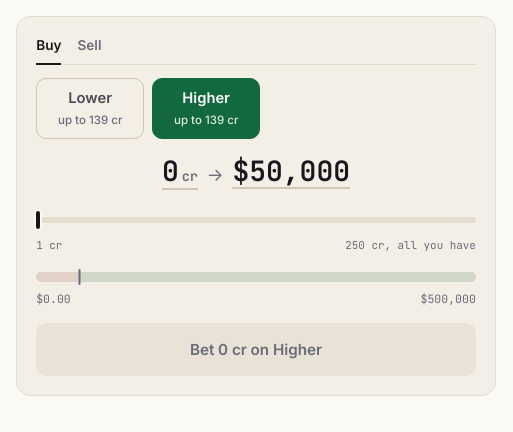
win facts › a lower bet is worth most at the bottom of the range
Step 1. Click the button "Lower up to 139 cr" → (90,109), box x1=36 y1=78 x2=144 y2=139
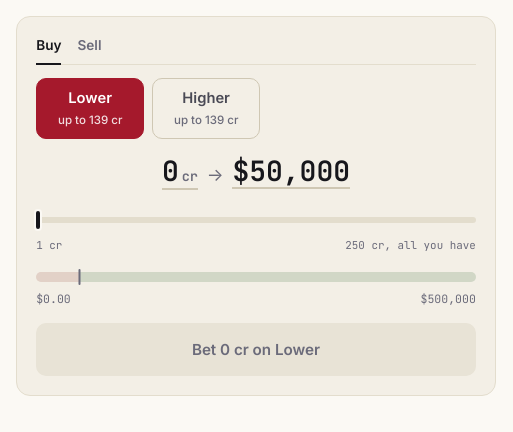
Step 2. Replace the text in the field named "Credits to spend" with "25" → (170,170), box x1=162 y1=152 x2=179 y2=188
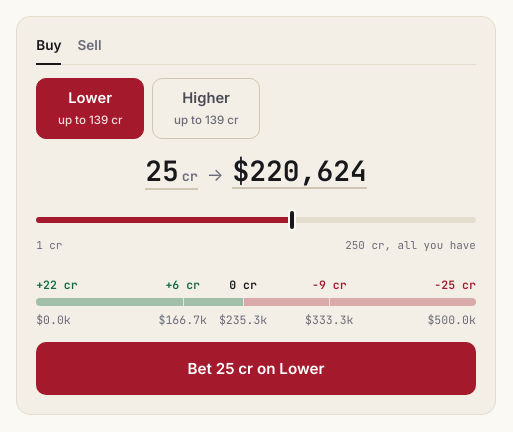
Expected: the text "-25 cr" is shown, x1=434 y1=277 x2=476 y2=292
